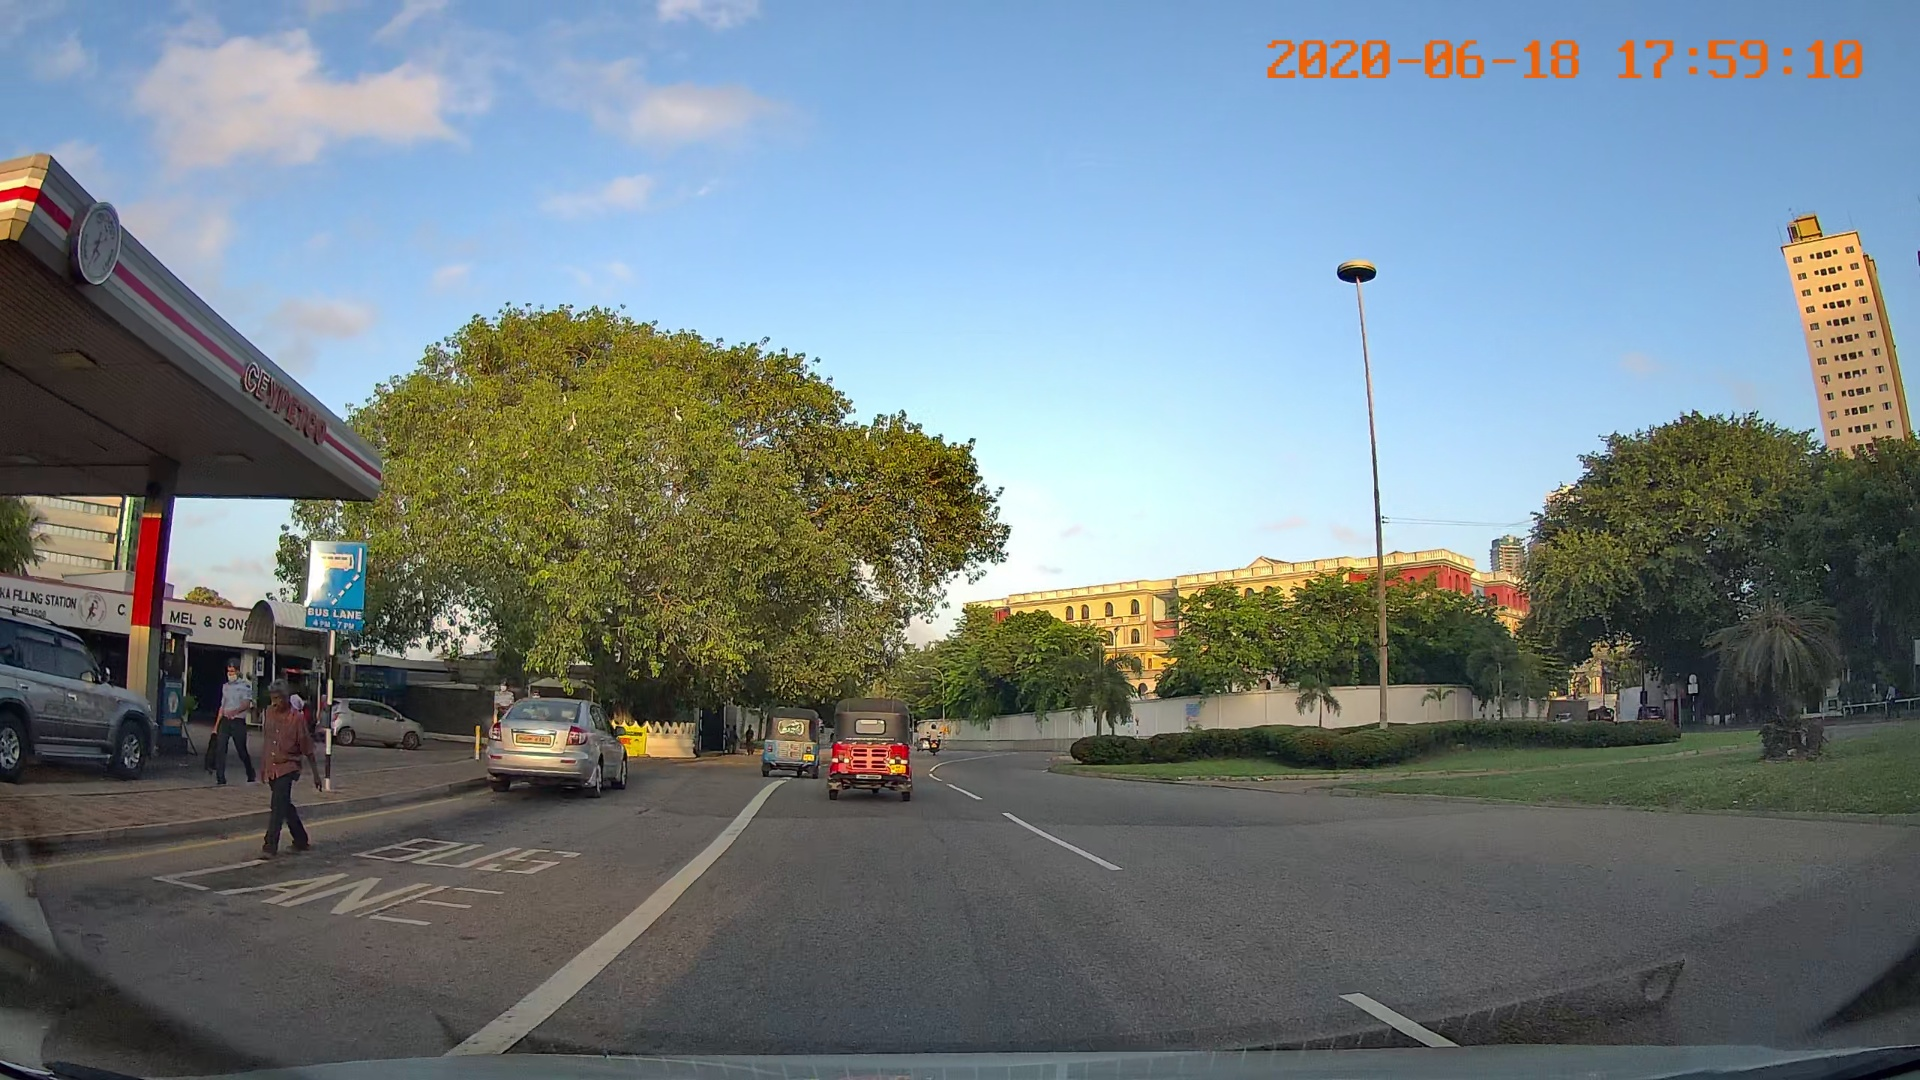bus lane: (185, 835, 622, 945)
